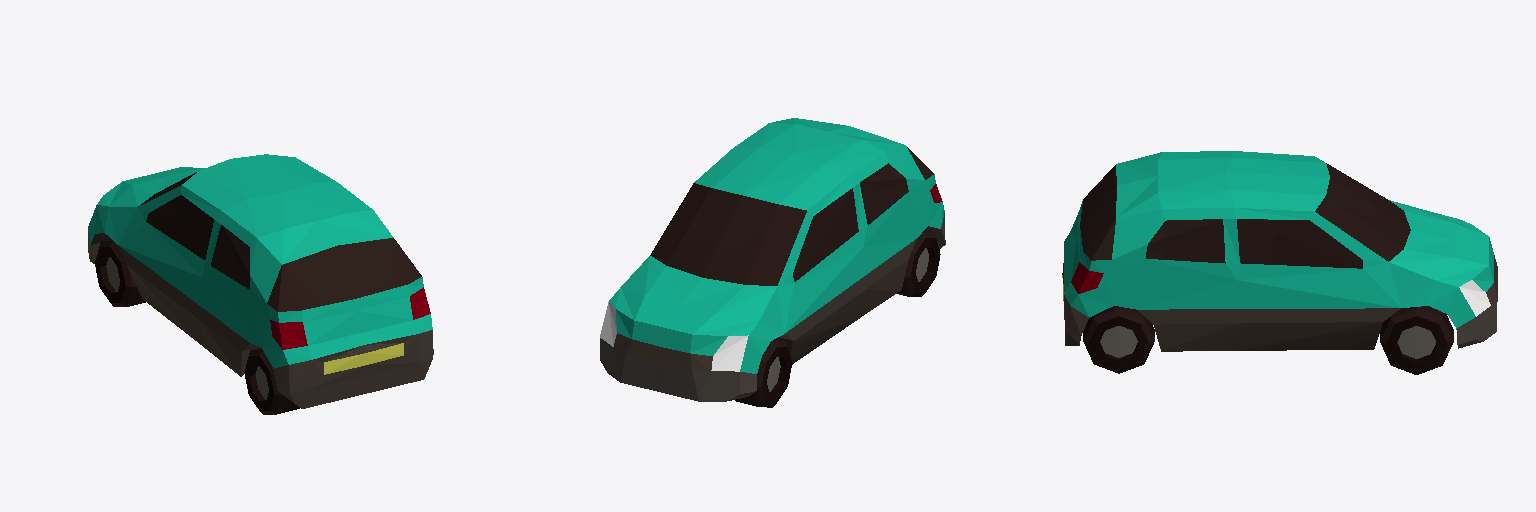
The picture shows the model from 3 angles: view 1: azimuth 30°, elevation 25°; view 2: azimuth 150°, elevation 25°; view 3: azimuth 270°, elevation 25°; orthographic projection.
Parts seen in each view (by area): view 1: Car_Carrosserie, Car_Base; view 2: Car_Carrosserie, Car_Base; view 3: Car_Carrosserie, Car_Base.
Part boxes in pixels (x1,y1,x2,y2): Car_Carrosserie: (88,154,432,368); Car_Base: (88,172,433,414); Car_Carrosserie: (609,118,944,373); Car_Base: (600,147,945,407); Car_Carrosserie: (1064,151,1493,328); Car_Base: (1062,163,1497,374).
Bounding box in the file's own units: 1.94 × 1.98 × 4.67.
1 materials, 1 textured.